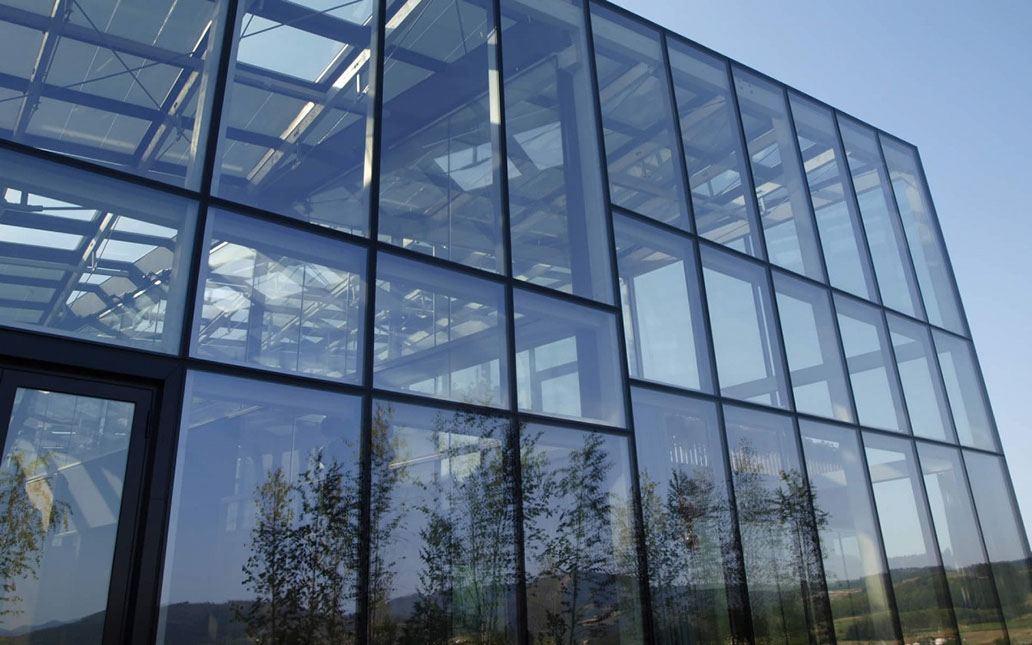glass panel: (158, 372, 365, 644), (0, 0, 229, 187), (0, 152, 195, 352), (213, 0, 373, 233), (368, 401, 515, 644), (378, 0, 505, 272), (0, 388, 134, 644), (501, 0, 613, 302), (192, 211, 365, 380), (632, 388, 741, 644), (520, 425, 642, 644), (724, 406, 830, 644), (591, 3, 690, 229), (800, 420, 897, 644), (668, 38, 763, 256), (373, 253, 507, 407), (863, 432, 957, 644), (733, 67, 823, 279), (790, 92, 876, 299), (918, 442, 1005, 644), (614, 214, 712, 391), (838, 118, 923, 316), (880, 137, 965, 333), (514, 290, 624, 426), (701, 248, 787, 407), (964, 451, 1031, 643), (774, 272, 853, 421), (834, 295, 907, 431), (887, 314, 954, 441), (932, 330, 995, 449)
